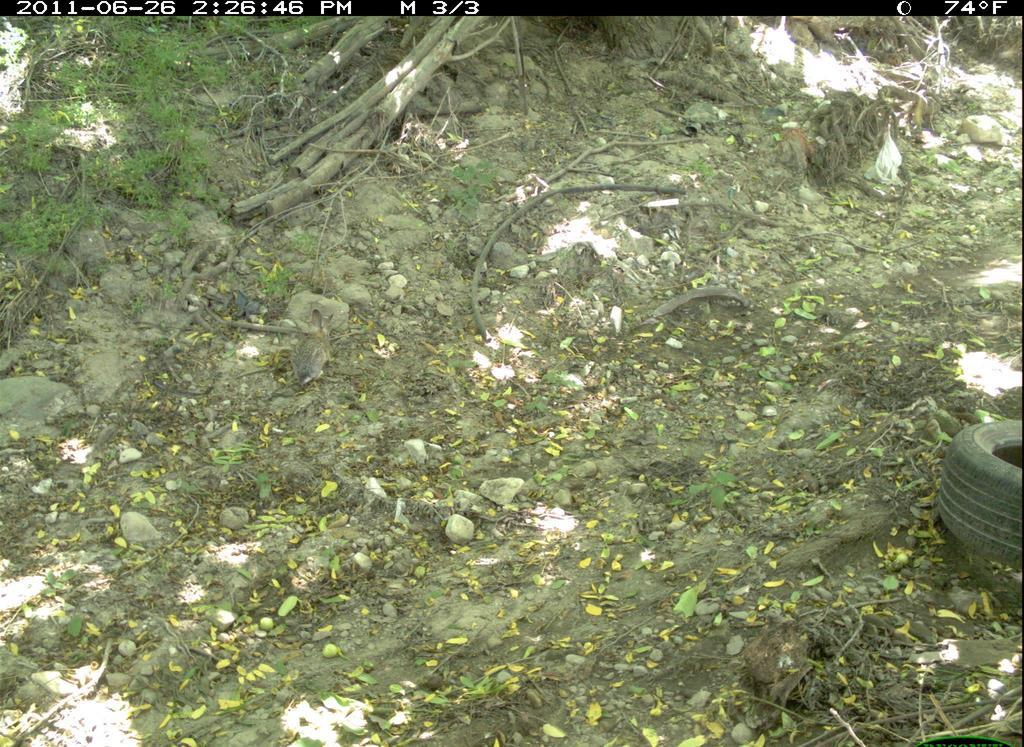rabbit: (285, 306, 342, 395)
